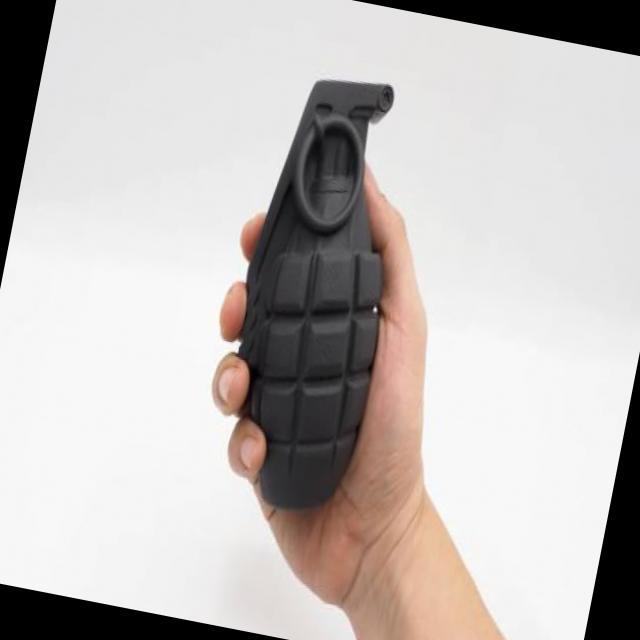grenade: (211, 47, 439, 529)
